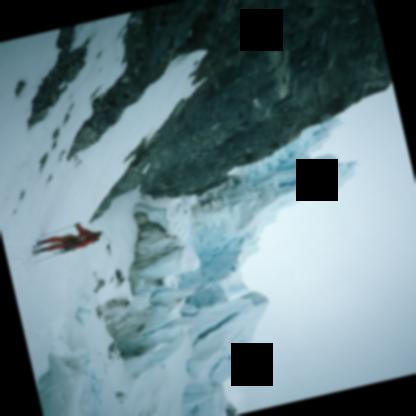backpack: (91, 238, 99, 243)
